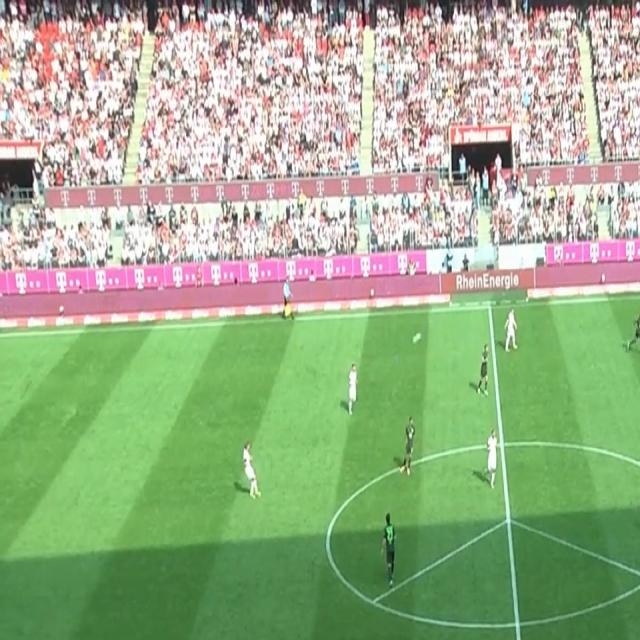ball: (411, 330, 422, 345)
